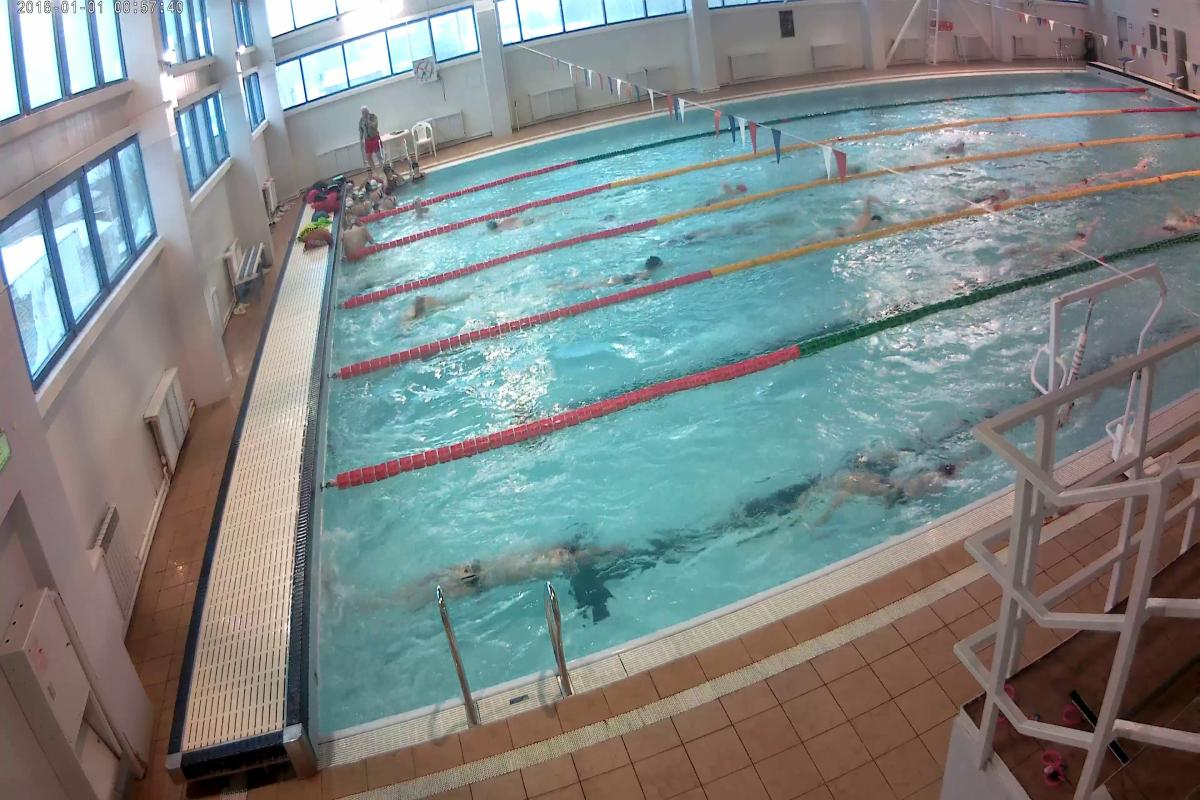swimmer: (575, 253, 674, 287), (1036, 212, 1103, 261), (406, 290, 466, 332), (487, 207, 545, 244), (831, 199, 891, 234), (700, 180, 753, 206), (1109, 152, 1158, 179), (1157, 207, 1198, 233), (969, 181, 1013, 201)
